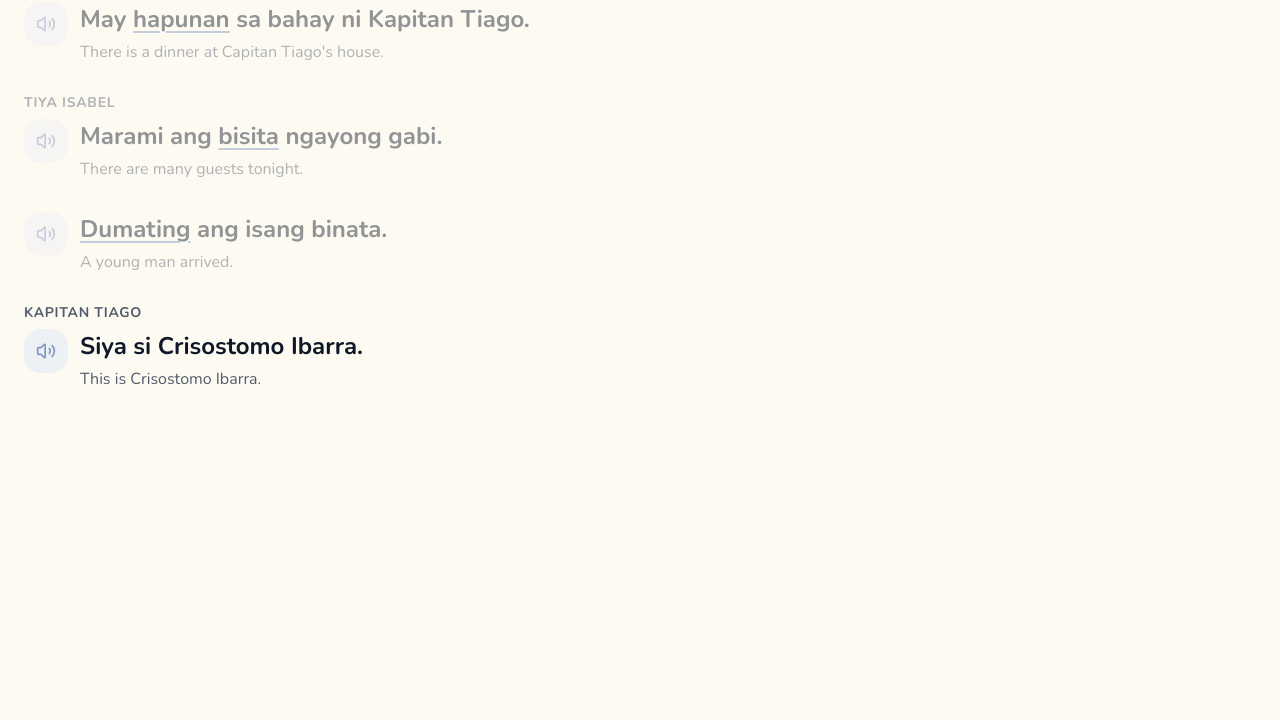
it: gloss sheet › matches vocabulary regardless of case and trailing punctuation
The width and height of the screenshot is (1280, 720).
Click the button "Dumating".
click(135, 230)  # box [80,210,190,249]
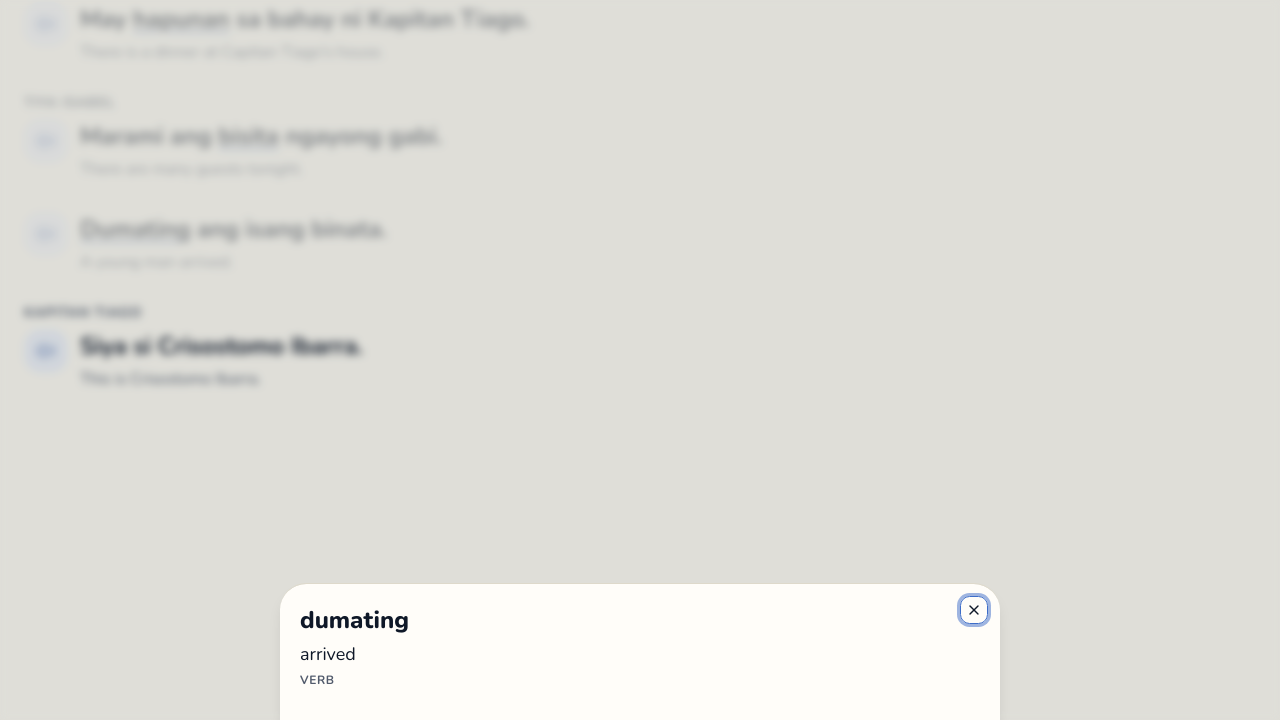
Expected: the dialog shows "arrived", [300,642,356,666]
